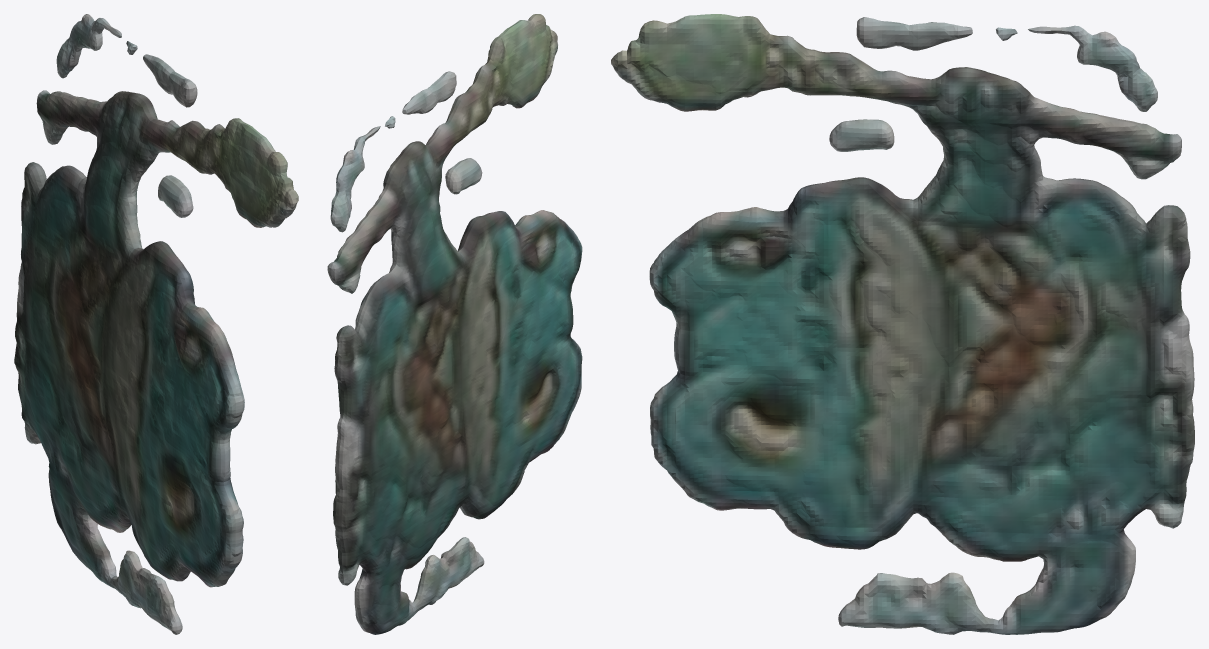
The model's file is frosch_tsr.glb.
3 views of the same model, side by side, from view 1: azimuth 30°, elevation 25°; view 2: azimuth 150°, elevation 25°; view 3: azimuth 270°, elevation 25° (orthographic). The views are drawn at different scales.
Parts seen in each view (by area): view 1: world; view 2: world; view 3: world.
Boxes of the visible parts, box(x1,y1,x2,y2) form: world: box(14, 14, 298, 634); world: box(327, 14, 582, 634); world: box(611, 14, 1194, 634).
Bounding box in the file's own units: 0.1325 × 1.06 × 0.89.
